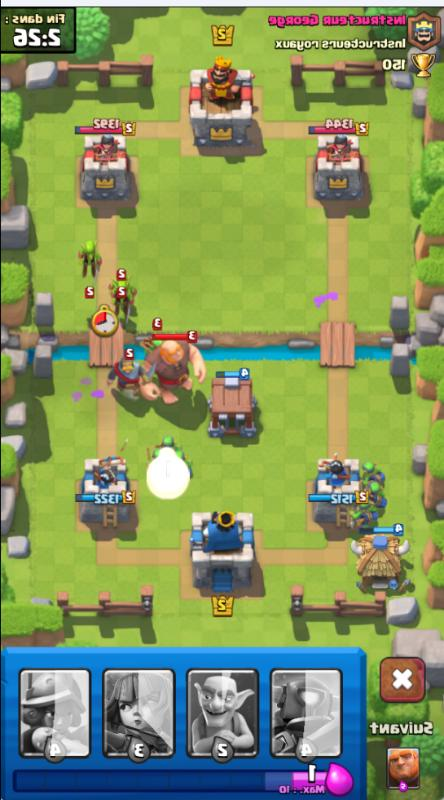chevalier: (106, 352, 151, 399)
geant: (137, 329, 204, 408)
gobelin: (76, 239, 103, 281), (108, 269, 138, 305), (110, 285, 133, 323)
gobelin_lances: (349, 497, 379, 531), (362, 481, 391, 510), (361, 461, 388, 489), (174, 448, 189, 479), (145, 448, 162, 469), (161, 430, 176, 453)
